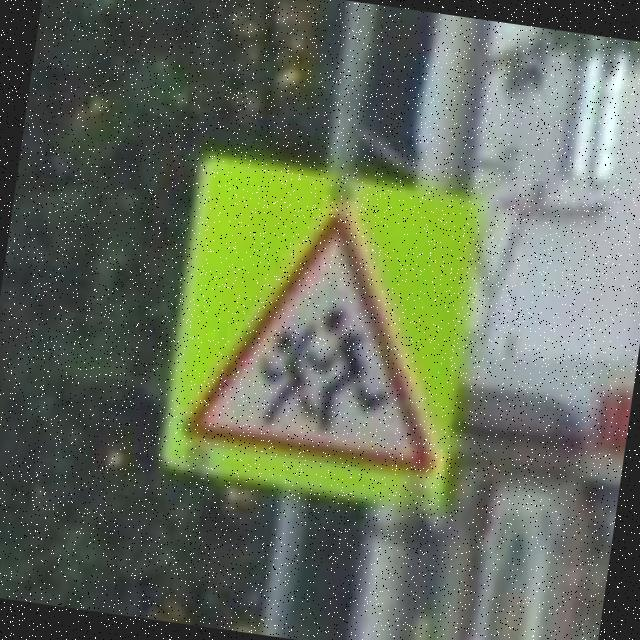Dzieci: (180, 193, 470, 476)
